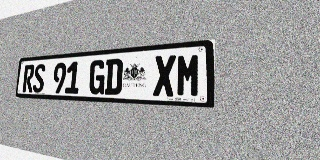1: (65, 61, 80, 94)
9: (52, 62, 67, 93)
D: (104, 58, 123, 95)
G: (88, 59, 106, 94)
M: (176, 53, 201, 97)
R: (22, 64, 35, 92)
S: (32, 64, 46, 93)
X: (153, 55, 176, 97)
